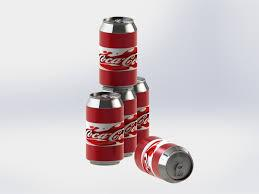Aluminum can: (78, 85, 125, 176), (93, 17, 143, 86), (116, 73, 157, 157), (134, 133, 193, 180)
